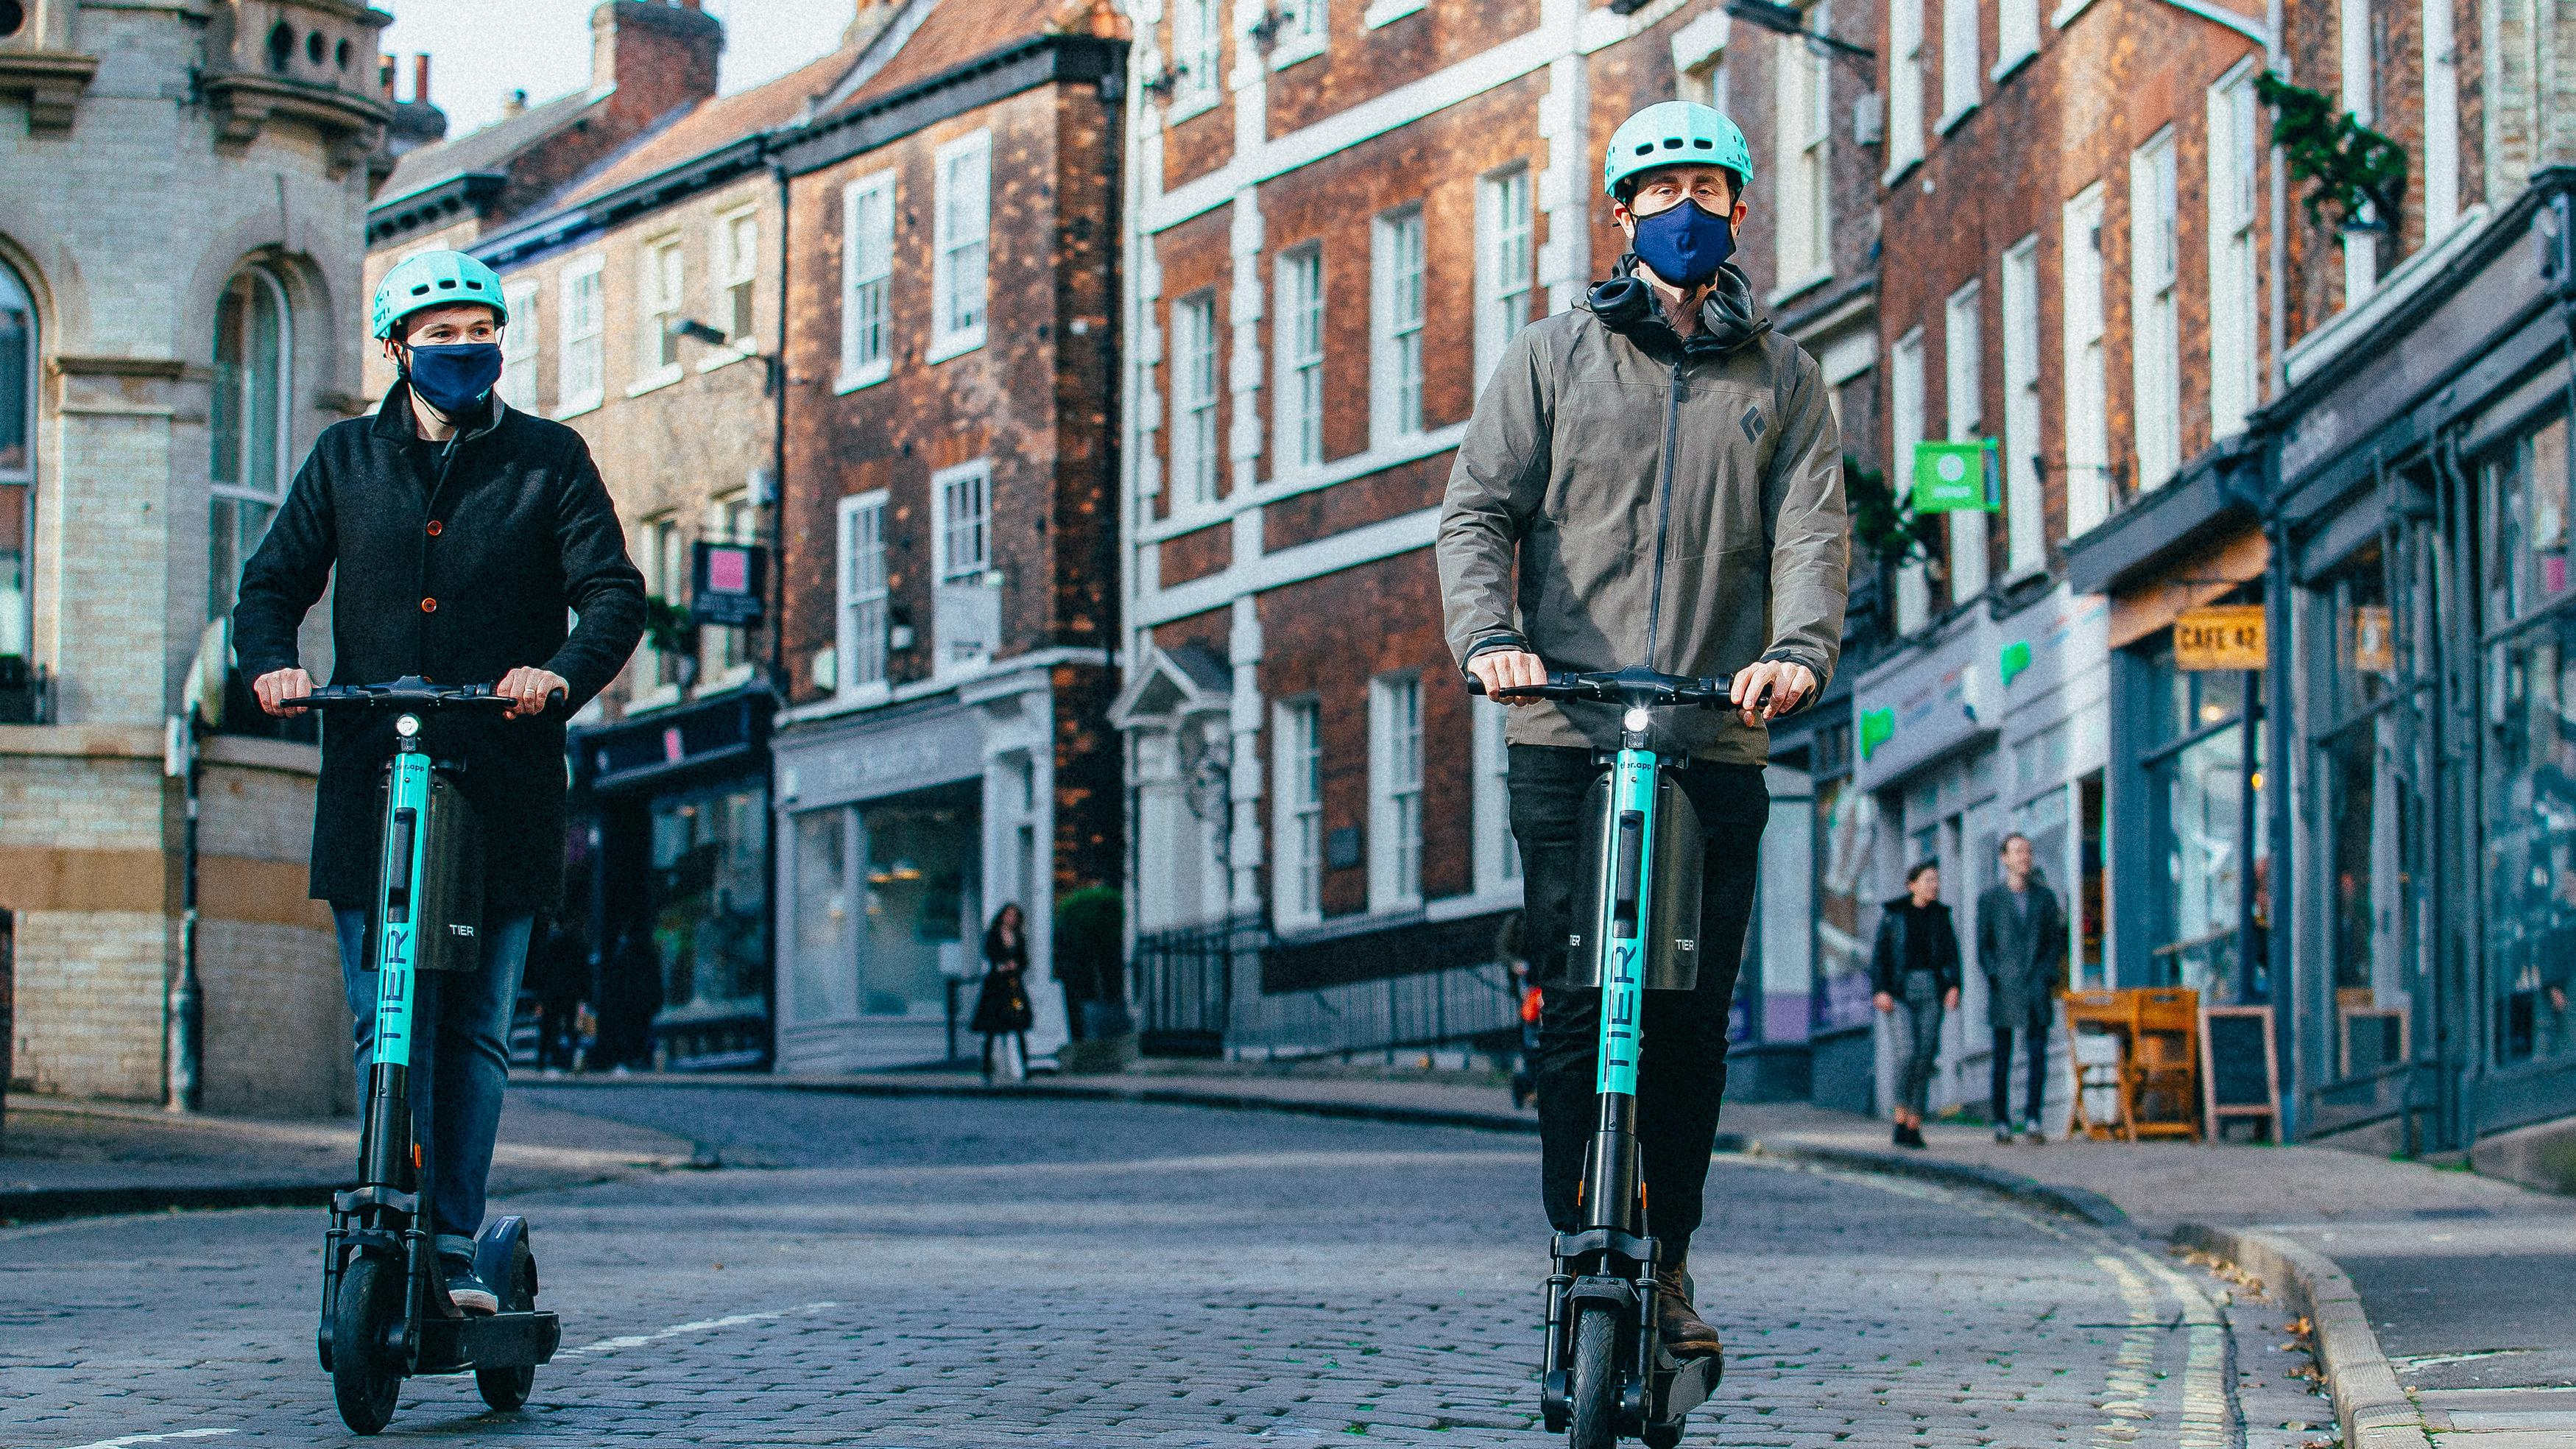scooter: (211, 655, 575, 1433), (1463, 637, 1799, 1449)
with helmet: (1583, 88, 1762, 297), (368, 237, 515, 407)
